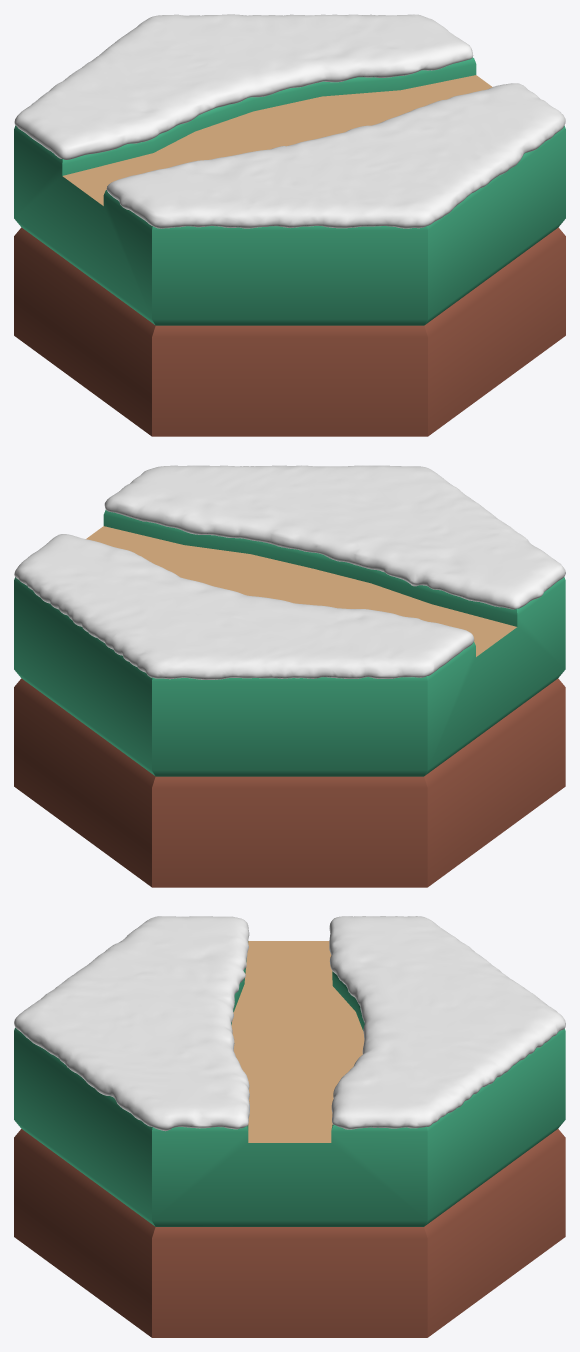
File: snow_hex_forest_roadB_detail.fbx
3 views of the same model, one above another, from view 1: azimuth 30°, elevation 25°; view 2: azimuth 150°, elevation 25°; view 3: azimuth 270°, elevation 25° (orthographic).
Visible parts, largest first — view 1: SnowBall.001, hex_forest_roadB_detail.002, hex_forest_roadB_detail.001, hex_forest_roadB_detail; view 2: SnowBall.001, hex_forest_roadB_detail.002, hex_forest_roadB_detail.001, hex_forest_roadB_detail; view 3: SnowBall.001, hex_forest_roadB_detail.002, hex_forest_roadB_detail.001, hex_forest_roadB_detail.
Boxes of the visible parts, box(x1,y1,x2,y2) form: SnowBall.001: box(14, 14, 565, 228); hex_forest_roadB_detail.002: box(14, 227, 565, 436); hex_forest_roadB_detail.001: box(14, 57, 565, 325); hex_forest_roadB_detail: box(62, 75, 492, 205); SnowBall.001: box(14, 465, 565, 679); hex_forest_roadB_detail.002: box(14, 678, 565, 887); hex_forest_roadB_detail.001: box(14, 509, 565, 776); hex_forest_roadB_detail: box(86, 526, 516, 656); SnowBall.001: box(14, 916, 565, 1131); hex_forest_roadB_detail.002: box(14, 1129, 565, 1337); hex_forest_roadB_detail.001: box(14, 941, 565, 1226); hex_forest_roadB_detail: box(231, 941, 364, 1142).
Size of the model in its own units: 204 by 104 by 231.
